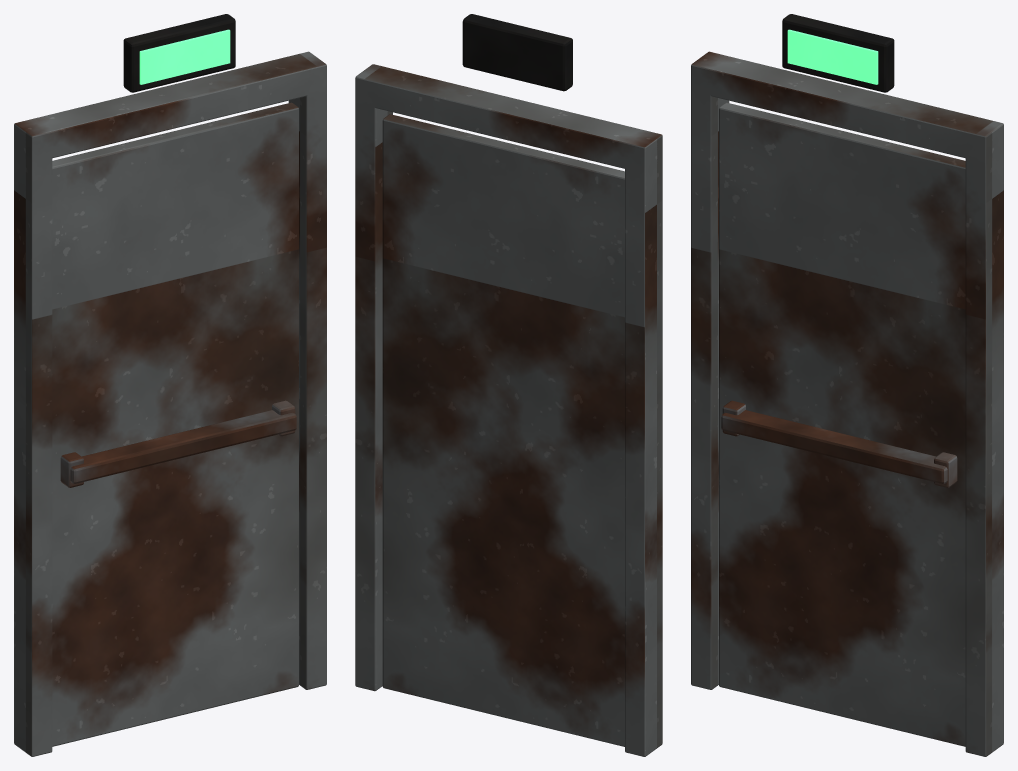
File: F27_fire_exit_door.glb
3 views of the same model, side by side, from view 1: azimuth 30°, elevation 25°; view 2: azimuth 150°, elevation 25°; view 3: azimuth 330°, elevation 25° (orthographic).
Parts seen in each view (by area): view 1: F27_fire_exit_door; view 2: F27_fire_exit_door; view 3: F27_fire_exit_door.
Part boxes in pixels (x1=…): F27_fire_exit_door: x1=14, y1=14, x2=326, y2=756; F27_fire_exit_door: x1=355, y1=14, x2=662, y2=756; F27_fire_exit_door: x1=691, y1=14, x2=1003, y2=756.
Size of the model in its own units: 0.9817 by 2.2 by 0.1402.
4 materials, 4 textured.
